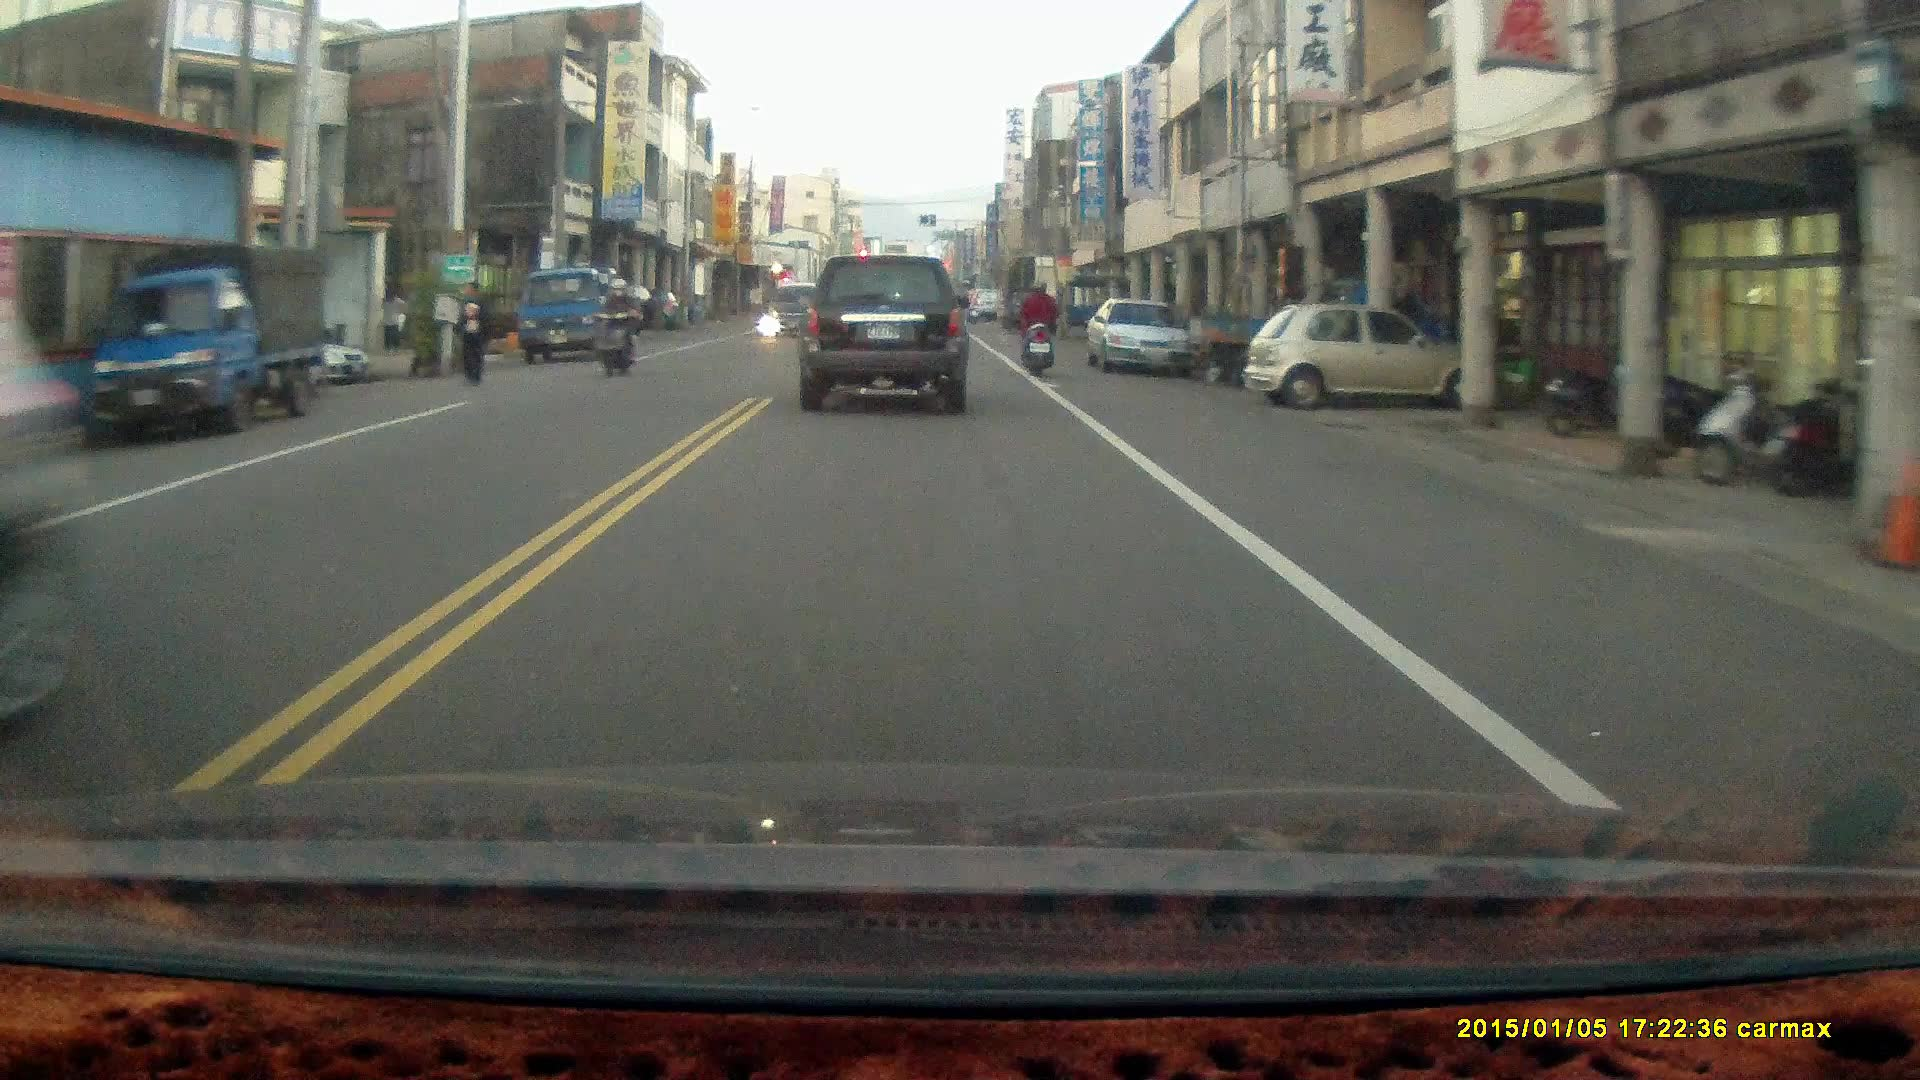pedestrian: (453, 276, 494, 388)
rider: (590, 275, 642, 375), (1017, 274, 1057, 373)
vehicle: (91, 236, 333, 446), (794, 250, 973, 416), (1247, 301, 1492, 407), (520, 264, 653, 361), (1088, 299, 1195, 376)
